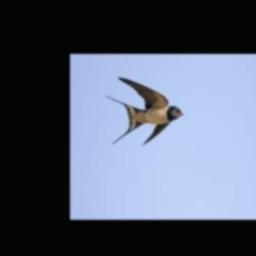Swallow: (104, 76, 184, 145)
